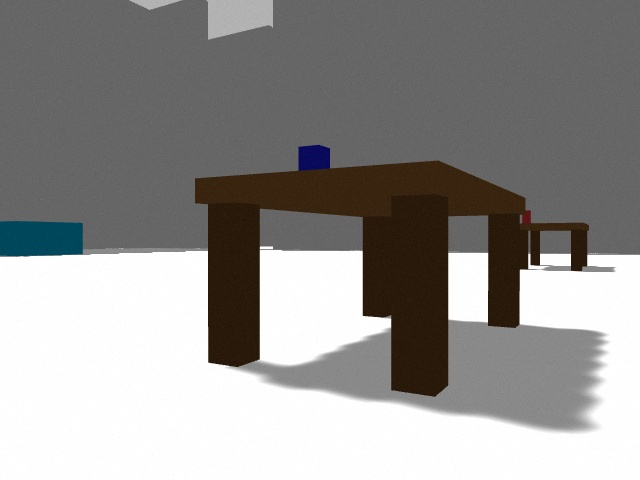blue_cube: (298, 145, 330, 170)
blue_drop_zone: (0, 221, 83, 256)
